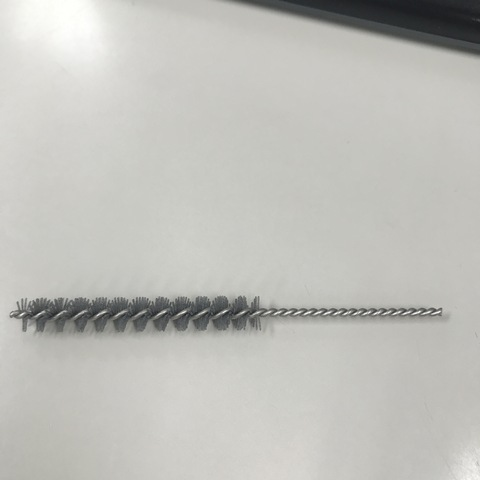Twist Brush-A: (9, 297, 450, 332)
